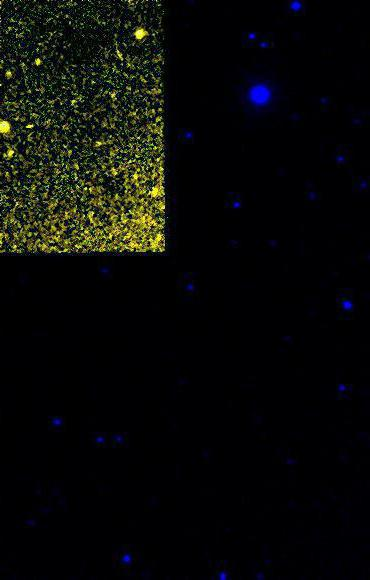star: (17, 111, 47, 141)
